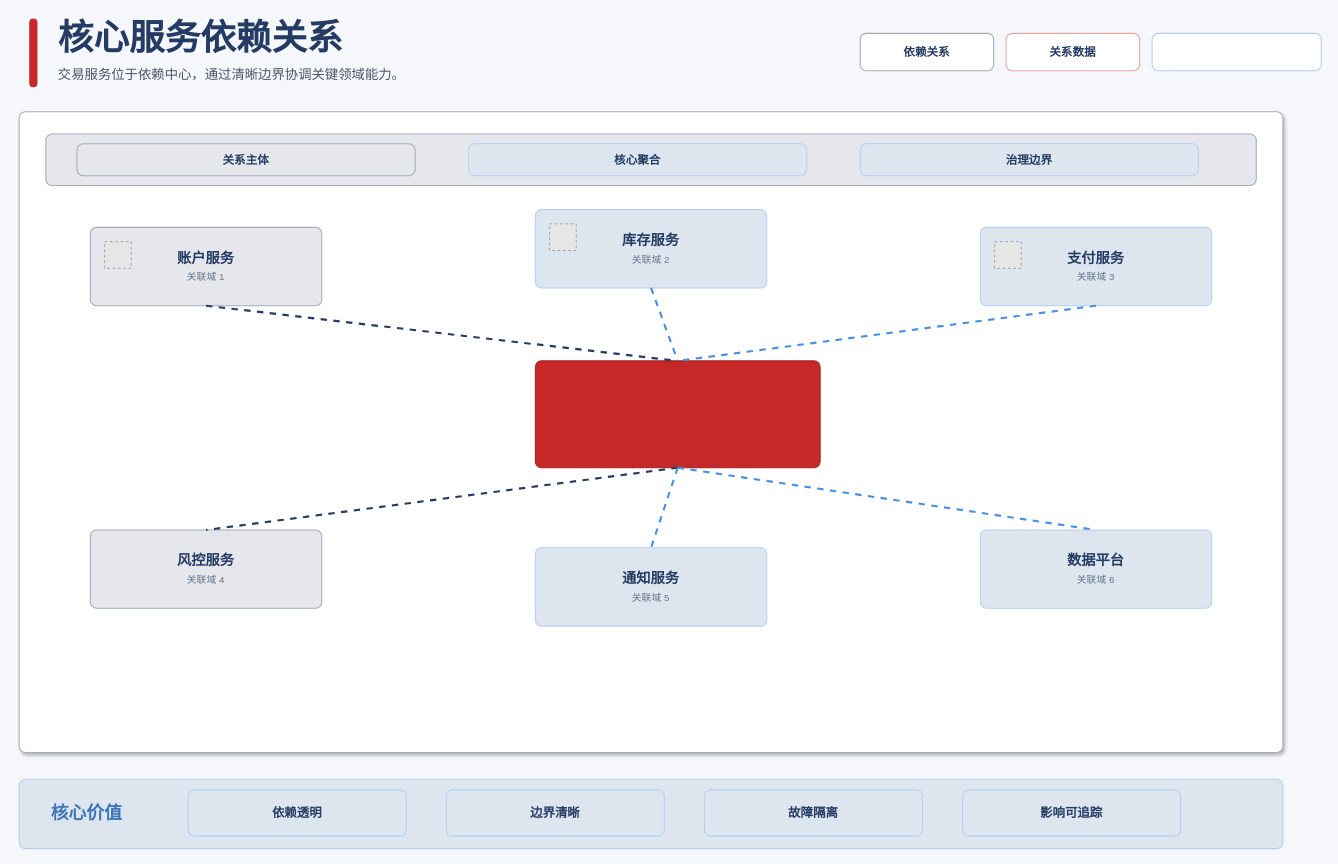
The diagram is 1338 pixels wide and 864 high, and some of its shapes have lost their labels. Grey dashed boxes stand in for pictures. The shapes that lost their labels are listed below. From the top down, each one's centre as x and y in pixels, then its label:
At (1236,51): "Steady Red & Blue".
At (677,414): "交易服务 核心主题".
